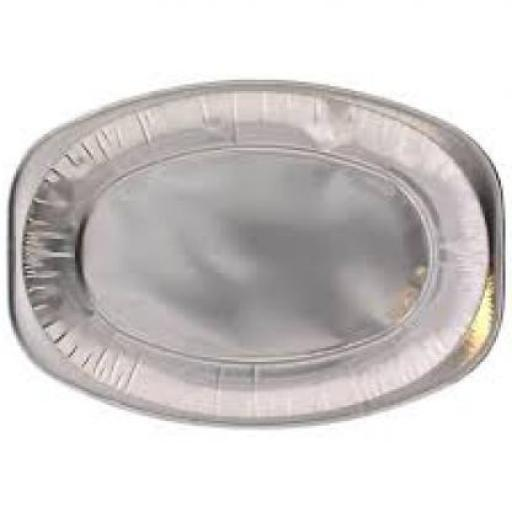metal: (12, 78, 505, 424)
